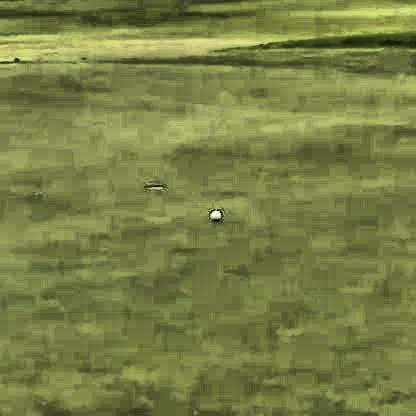golfball: (208, 208, 220, 220)
